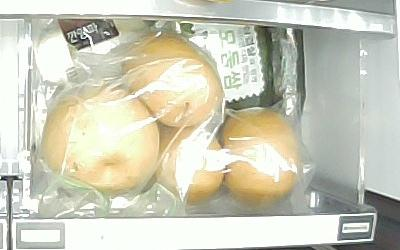pear_vinyl: (43, 85, 160, 196), (124, 33, 224, 127), (222, 107, 299, 208), (159, 127, 223, 204)
